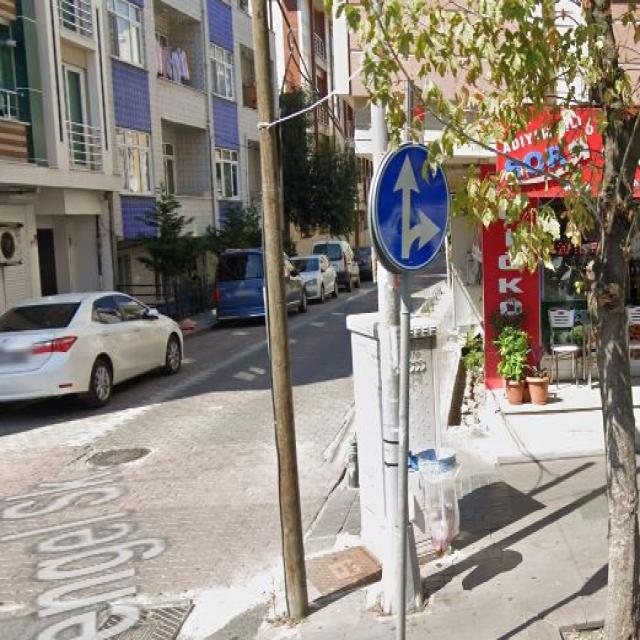ilerisag: (372, 142, 451, 272)
